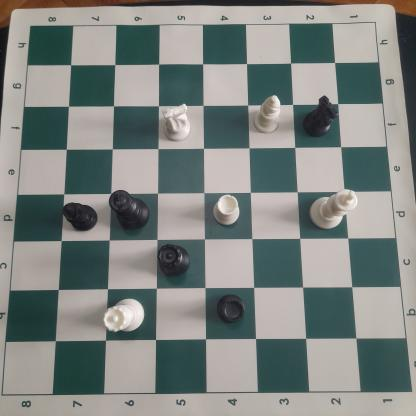black-bishop: (60, 201, 98, 234)
black-king: (109, 188, 152, 231)
black-knight: (302, 93, 342, 142)
black-queen: (156, 241, 192, 279)
black-rook: (215, 290, 247, 326)
white-bishop: (253, 94, 282, 135)
white-knight: (305, 187, 360, 232), (160, 101, 194, 142)
white-queen: (102, 297, 146, 335)
white-rook: (208, 192, 245, 228)
